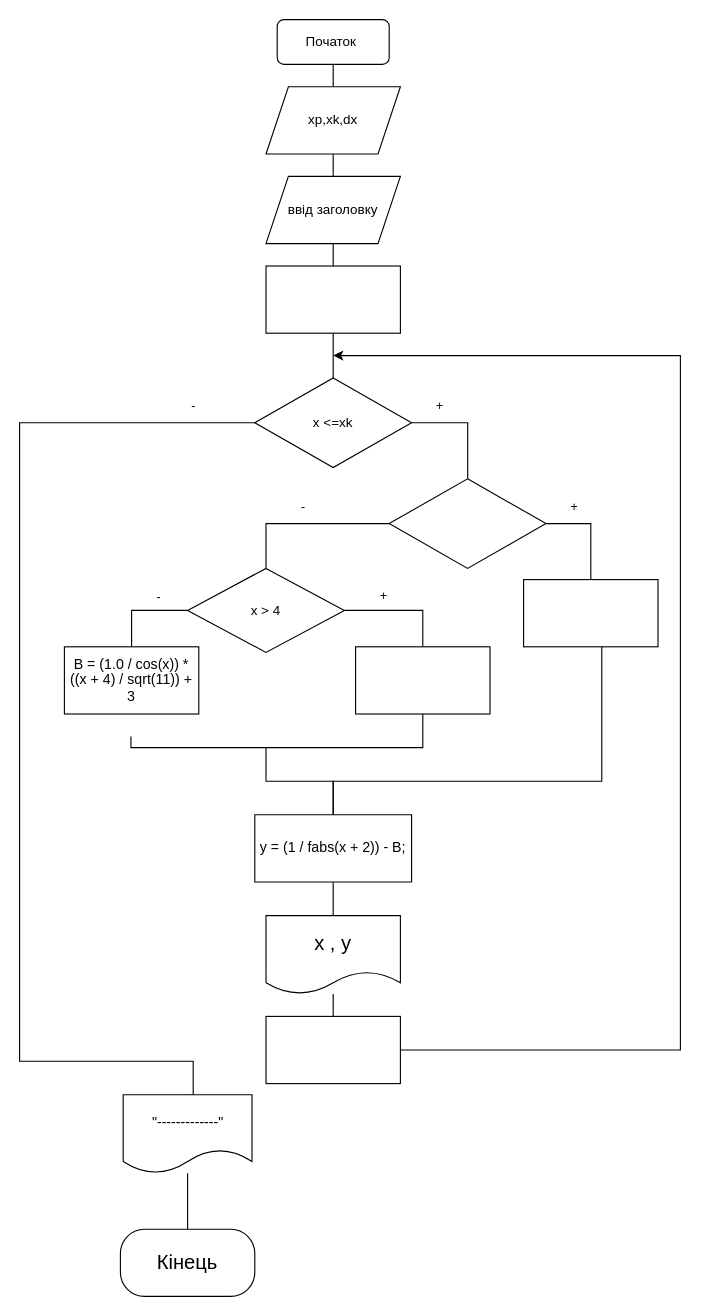
The diagram is 709 pixels wide and 1316 high, and some of its shapes have lost their labels. The shapes that lost their labels are listed below. From the top down, each one's centre as x and y in pixels, then its label:
At point (332, 299): "x = xp".
At point (467, 523): "x < 1".
At point (590, 612): "B = 7x 2 + x - 8".
At point (422, 680): "B = sqrt(1 + fabs( cos 3 3 x ))".
At point (332, 1049): "x += dx".
